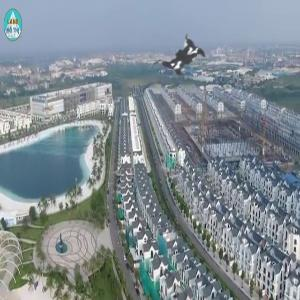drone: (130, 4, 234, 108)
